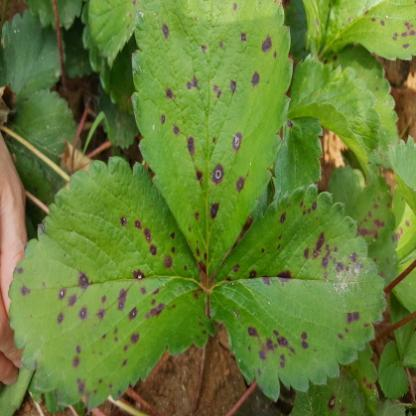Strawberry_Leaf_Spot: (7, 155, 217, 414), (131, 0, 294, 287), (208, 183, 388, 402), (327, 165, 415, 288), (321, 44, 401, 156), (318, 0, 416, 62), (270, 117, 324, 203), (88, 0, 139, 71), (289, 374, 366, 416), (341, 344, 386, 415), (283, 0, 325, 62)
